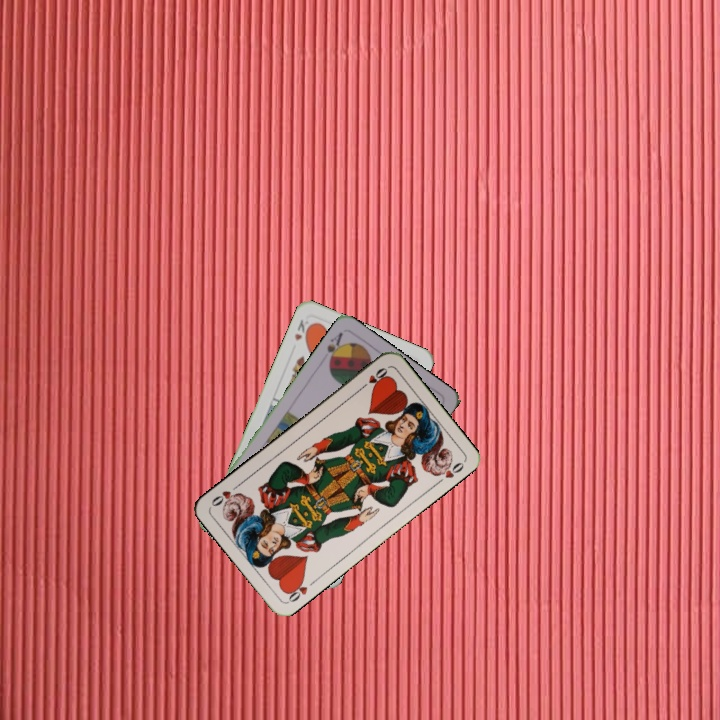HK: (290, 315, 315, 344)
HO: (356, 363, 390, 393), (282, 575, 310, 605)
SA: (323, 328, 347, 367)
